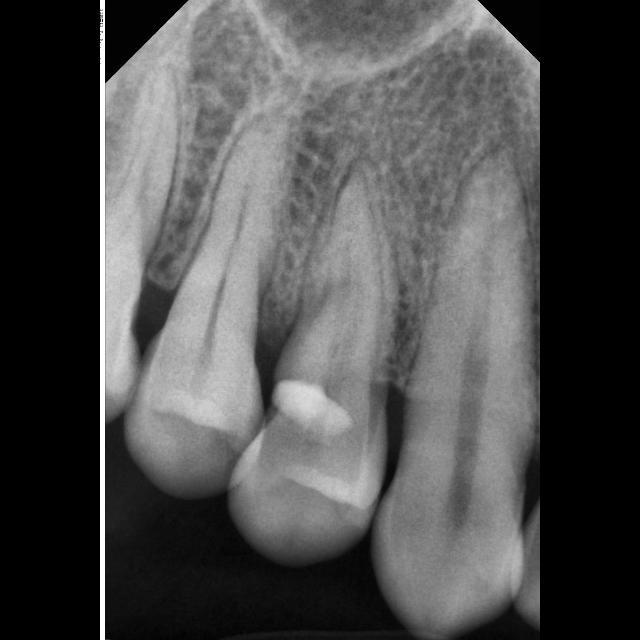tooth: (375, 156, 535, 637), (232, 173, 388, 565), (126, 121, 283, 497)
